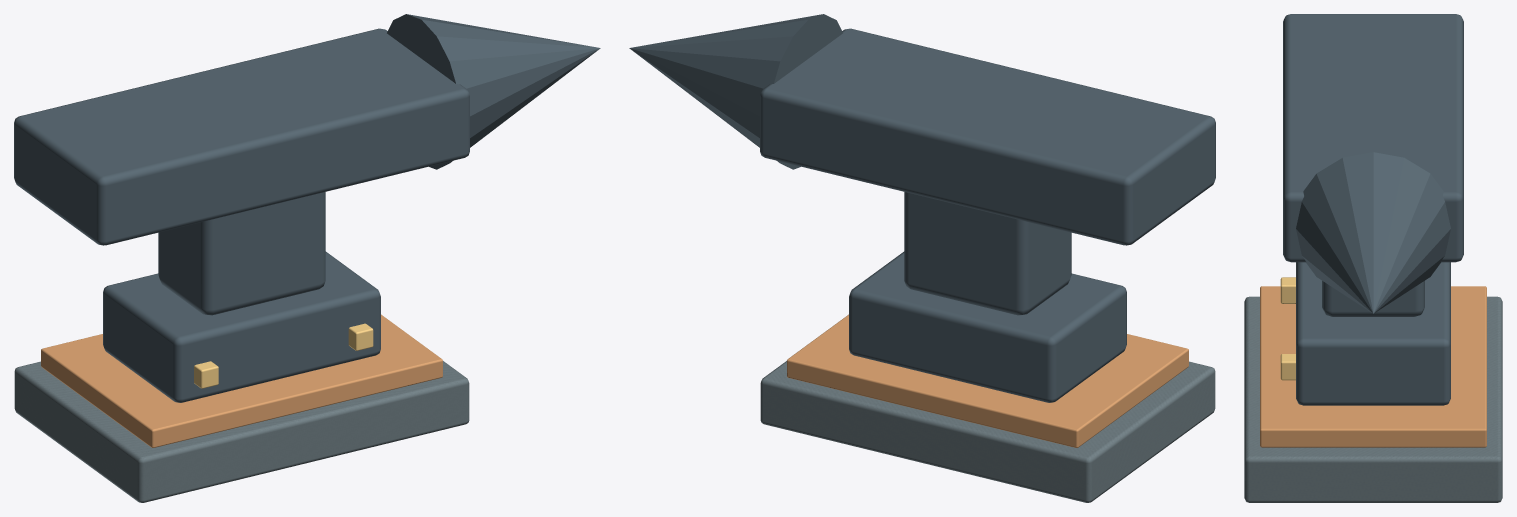
File: dwarven-runeforge-dungeon-dwarven-runeforge-dungeon-an-69731f96__28595.glb
The picture shows the model from 3 angles, left to right: view 1: azimuth 30°, elevation 25°; view 2: azimuth 150°, elevation 25°; view 3: azimuth 270°, elevation 25°; orthographic projection.
Parts seen in each view (by area): view 1: dwarven-runeforge-dungeon-anvil; view 2: dwarven-runeforge-dungeon-anvil; view 3: dwarven-runeforge-dungeon-anvil.
Boxes of the visible parts, left/top/right/bottom form: dwarven-runeforge-dungeon-anvil: left=14, top=14, right=600, bottom=502; dwarven-runeforge-dungeon-anvil: left=629, top=14, right=1215, bottom=502; dwarven-runeforge-dungeon-anvil: left=1244, top=14, right=1502, bottom=502.
Size of the model in its own units: 1.97 by 1.23 by 0.8.
Materials: 4 (1 with a texture image).
